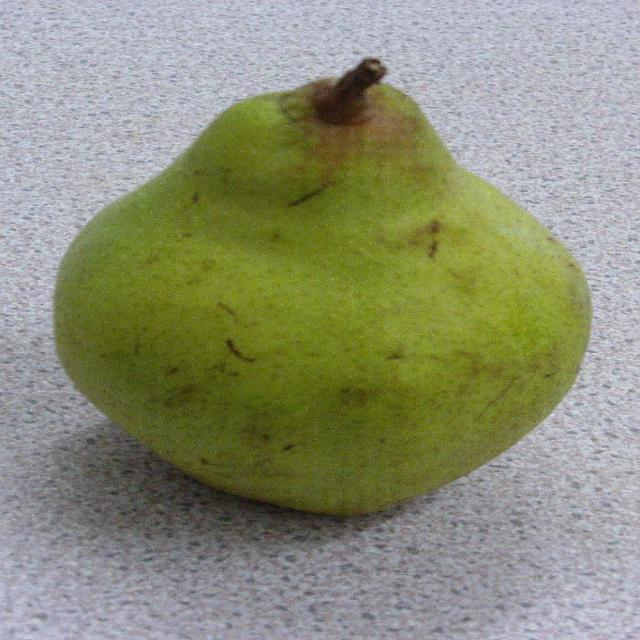pear: (51, 54, 592, 518)
